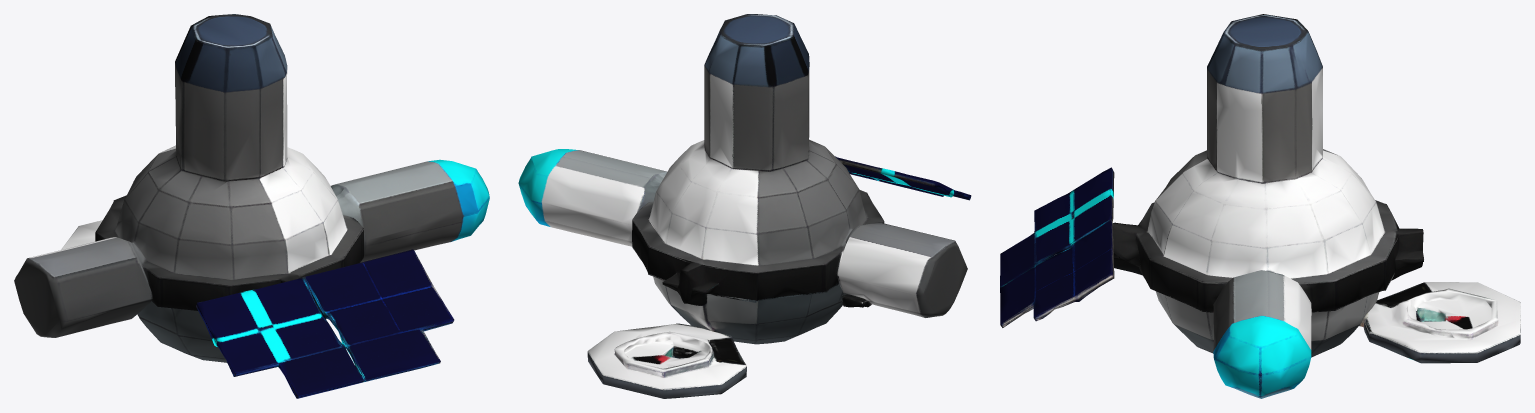
Rendered from research_lab.glb.
The picture shows the model from 3 angles, left to right: view 1: azimuth 30°, elevation 25°; view 2: azimuth 150°, elevation 25°; view 3: azimuth 270°, elevation 25°; orthographic projection. The views are drawn at different scales.
Parts seen in each view (by area): view 1: world; view 2: world; view 3: world.
Boxes of the visible parts, x1,y1,x2,y2 form: world: (14,14,489,398); world: (518,14,971,398); world: (1000,14,1520,398).
Size of the model in its own units: 0.9869 by 0.6687 by 0.9804.
1 material, 1 textured.
